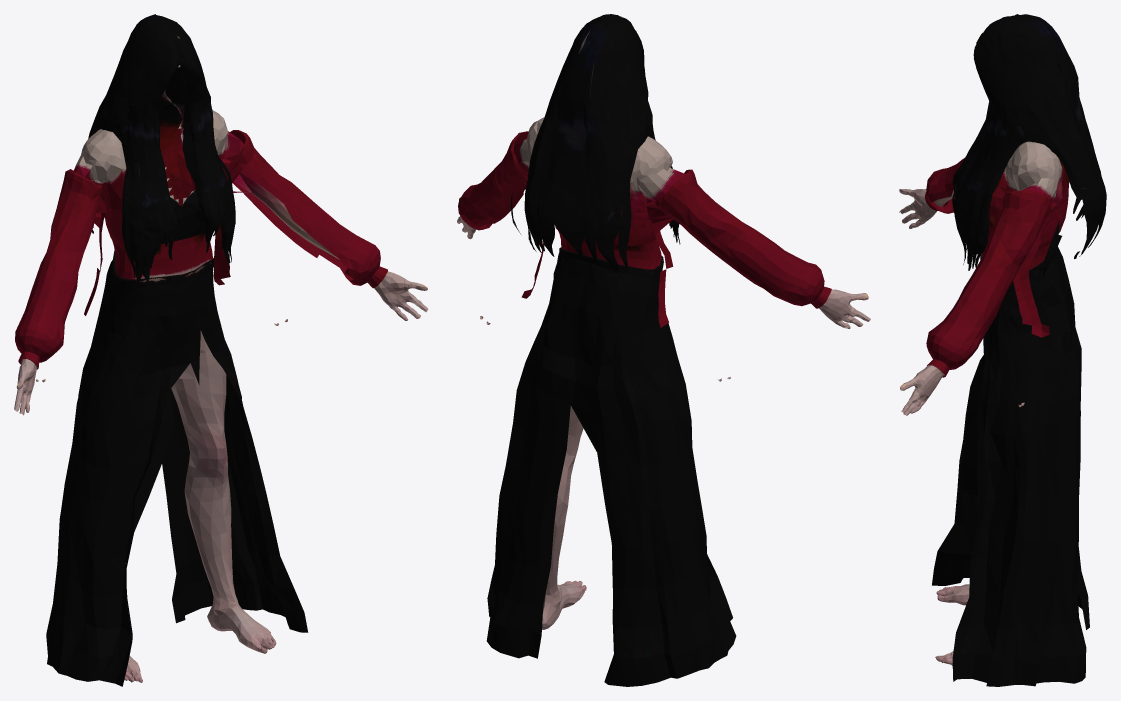
Rendered from ewm_t2necromancer_outfit.glb.
3 views of the same model, side by side, from view 1: azimuth 30°, elevation 25°; view 2: azimuth 150°, elevation 25°; view 3: azimuth 270°, elevation 25° (orthographic).
Parts seen in each view (by area): view 1: ewm_t2necromancer_outfit; view 2: ewm_t2necromancer_outfit; view 3: ewm_t2necromancer_outfit.
Boxes of the visible parts, left/top/right/bottom form: ewm_t2necromancer_outfit: left=14, top=14, right=428, bottom=686; ewm_t2necromancer_outfit: left=457, top=14, right=870, bottom=686; ewm_t2necromancer_outfit: left=899, top=14, right=1106, bottom=686.
Bounding box in the file's own units: 1.31 × 1.91 × 0.5723.
Materials: 1 (1 with a texture image).
